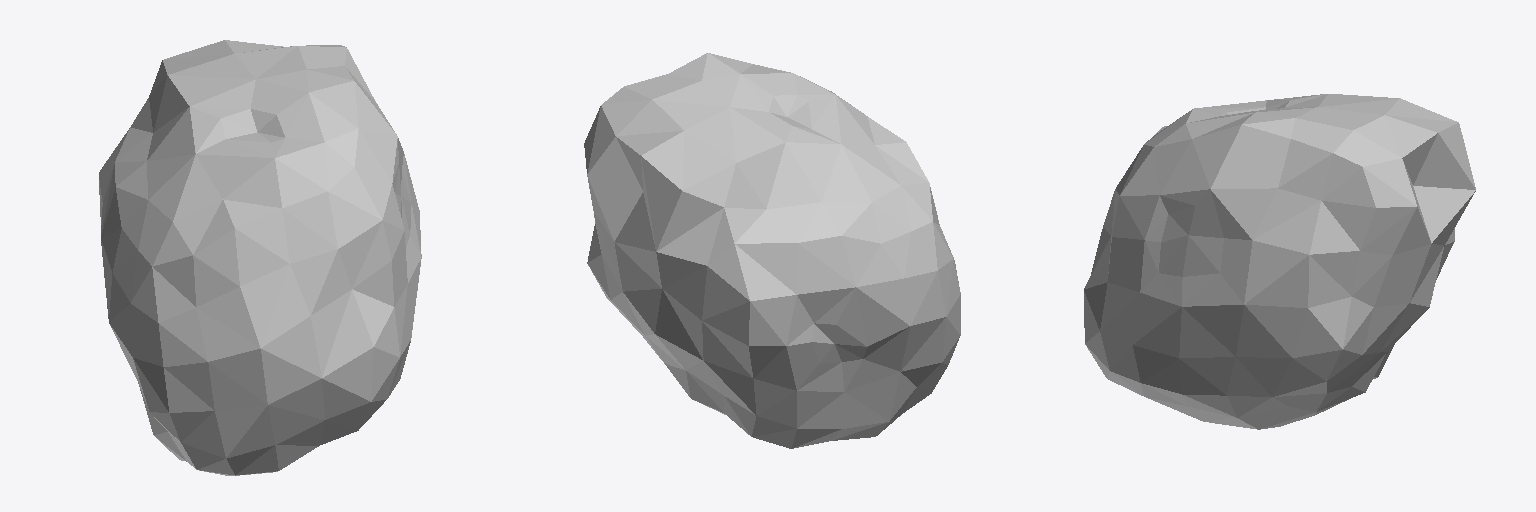
Rendered from rock2.obj.
3 renders of one model, left to right at view 1: azimuth 30°, elevation 25°; view 2: azimuth 150°, elevation 25°; view 3: azimuth 270°, elevation 25°, orthographic.
Visible parts, largest first — view 1: rock2; view 2: rock2; view 3: rock2.
Boxes of the visible parts, <box> form: rock2: <box>99,40,421,475</box>; rock2: <box>584,53,960,448</box>; rock2: <box>1084,94,1475,429</box>.
Size of the model in its own units: 16.6 by 17.89 by 18.72.